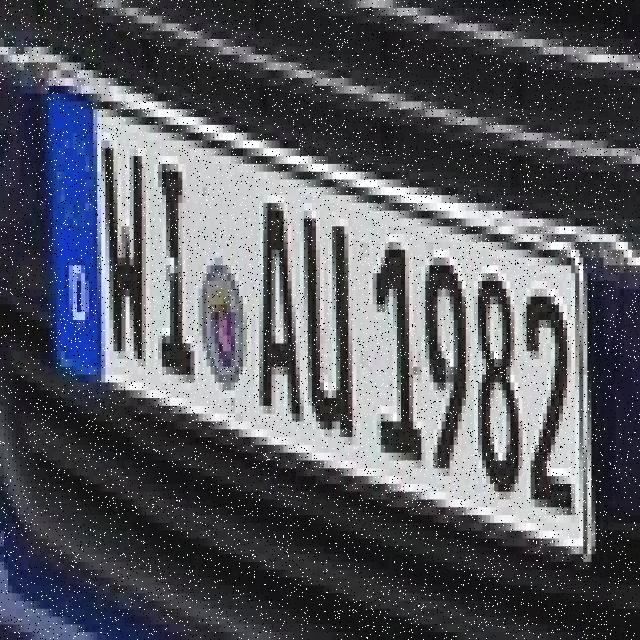licenseplate: (41, 74, 600, 548)
